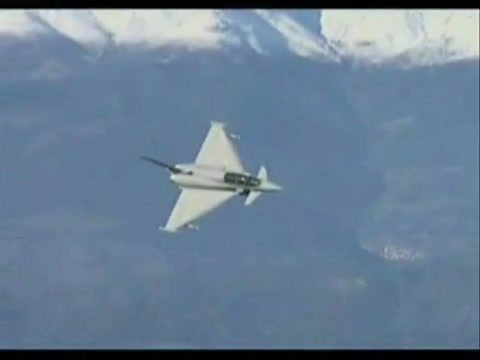aeroplane: (139, 119, 284, 237)
